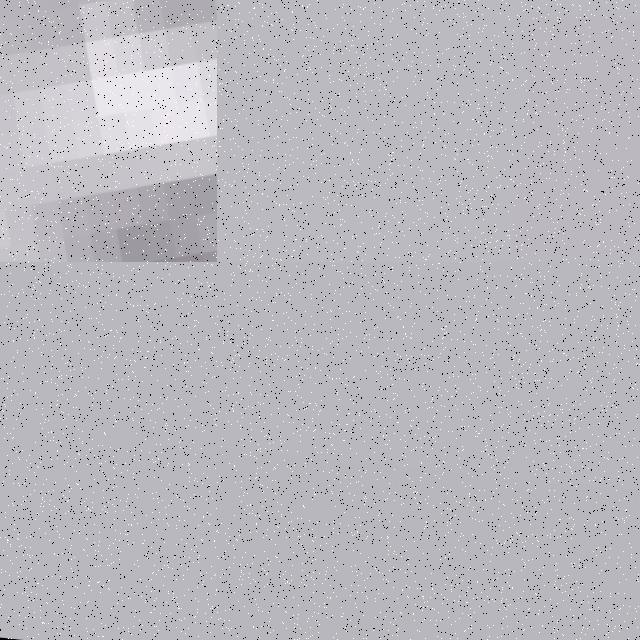drone: (0, 0, 217, 262)
